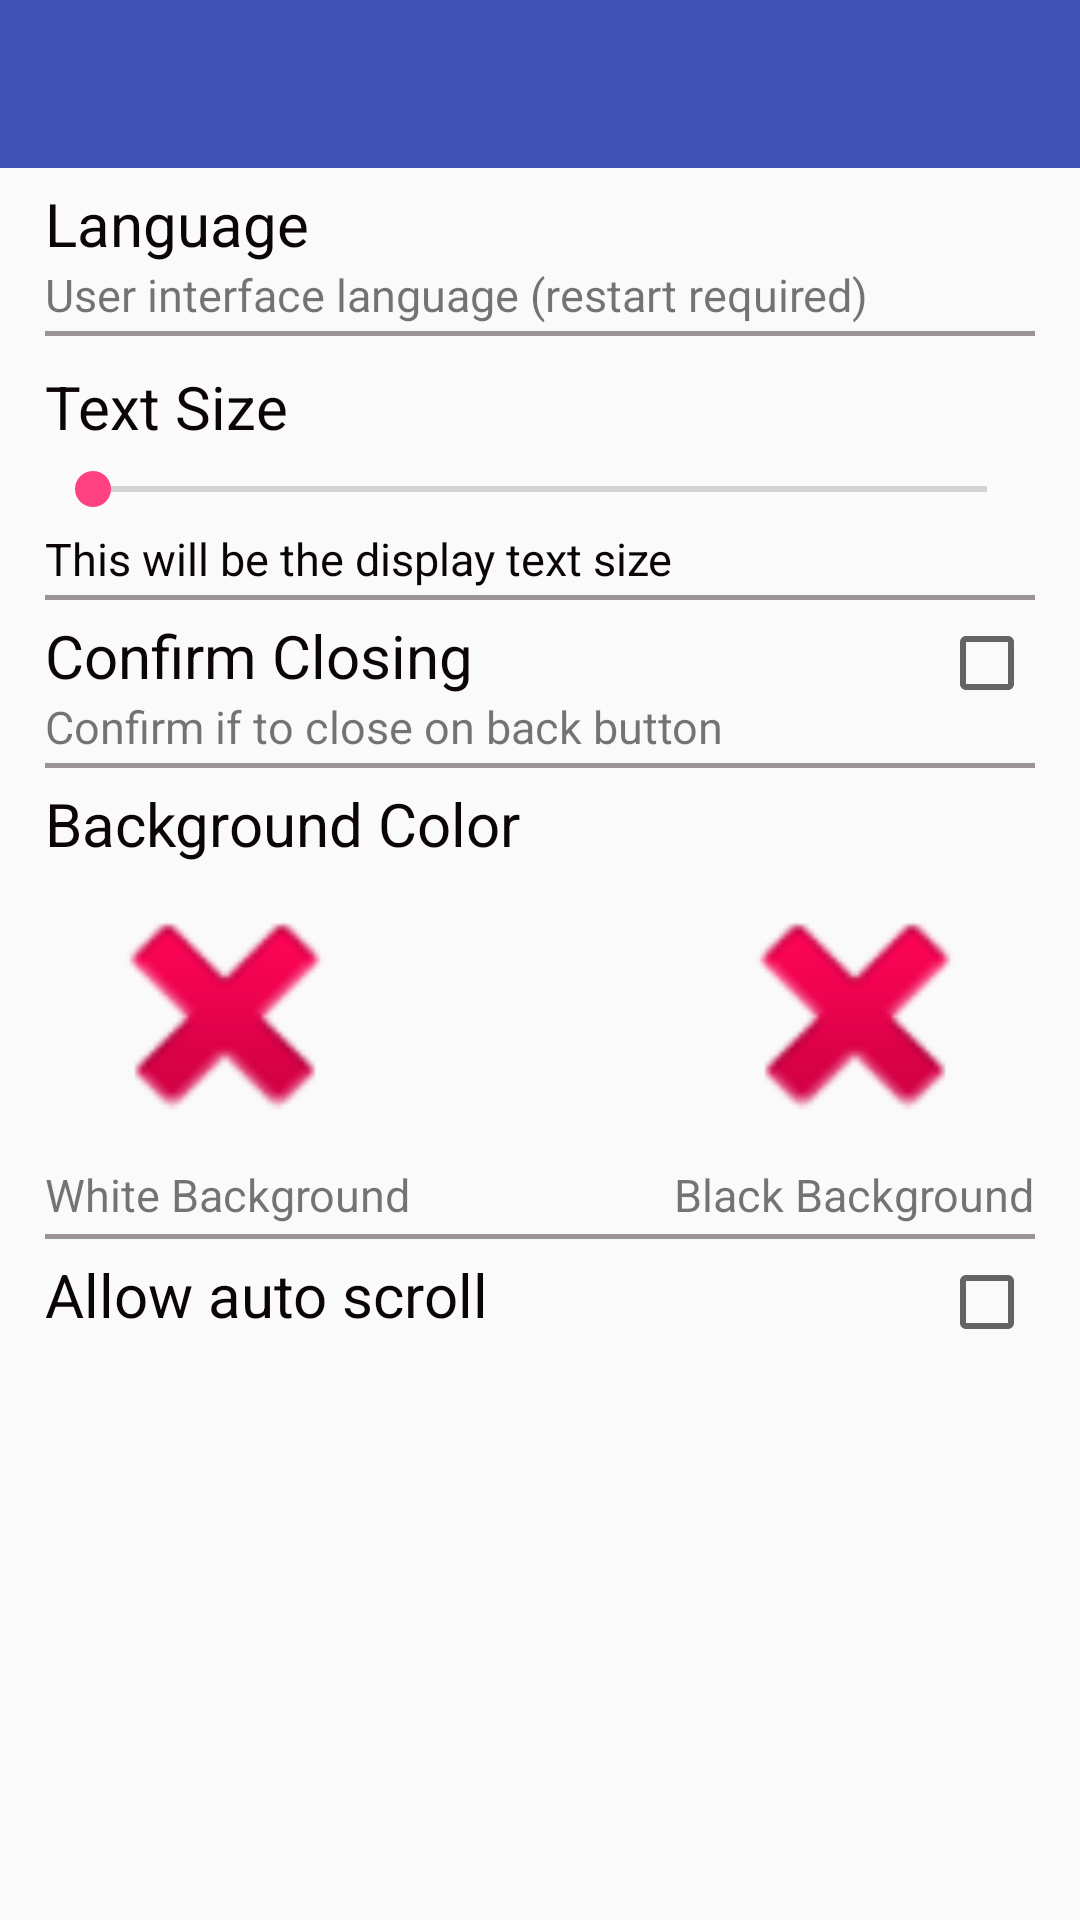

Where to tap for icons on this 1080px x 1920px app screen, as point (x, y):
delete: point (225, 1015), point (855, 1015)
